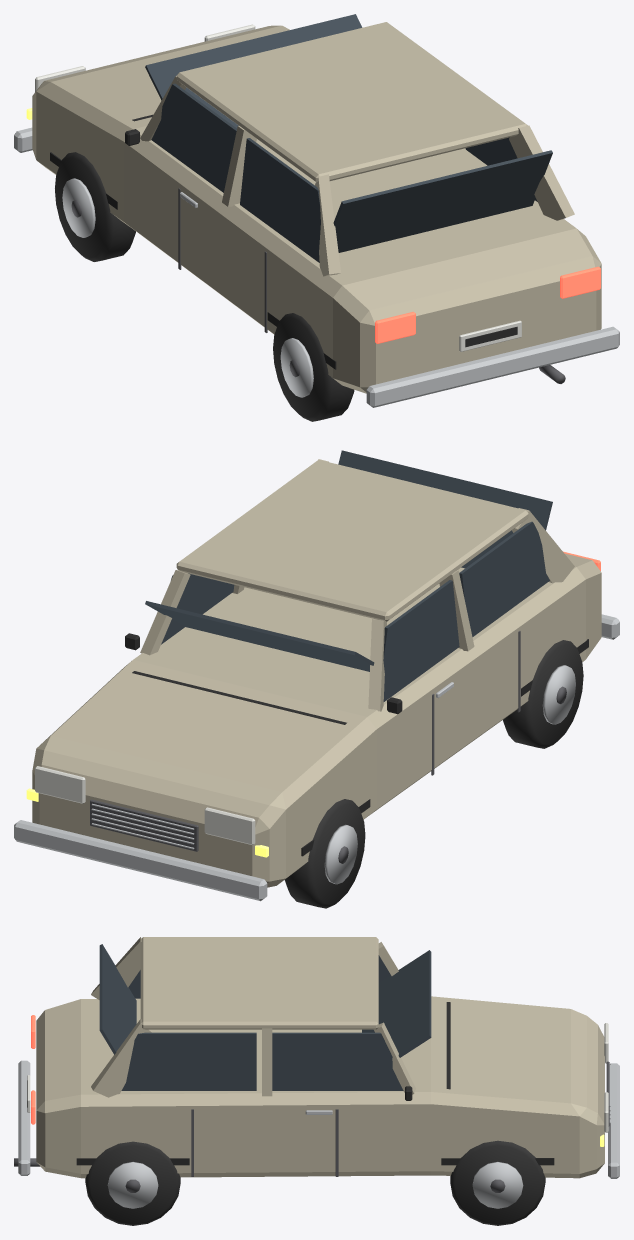
The model's file is v_car_beige.glb.
3 renders of one model, top to bottom at view 1: azimuth 30°, elevation 25°; view 2: azimuth 150°, elevation 25°; view 3: azimuth 270°, elevation 25°, orthographic. The views are drawn at different scales.
Visible parts, largest first — view 1: Auto_Beige; view 2: Auto_Beige; view 3: Auto_Beige.
Boxes of the visible parts, x1,y1,x2,y2 form: Auto_Beige: (14,14,619,421); Auto_Beige: (14,450,619,908); Auto_Beige: (14,937,619,1225).
Size of what is drawn, in the model's own units: 1.78 by 1.45 by 4.07.
